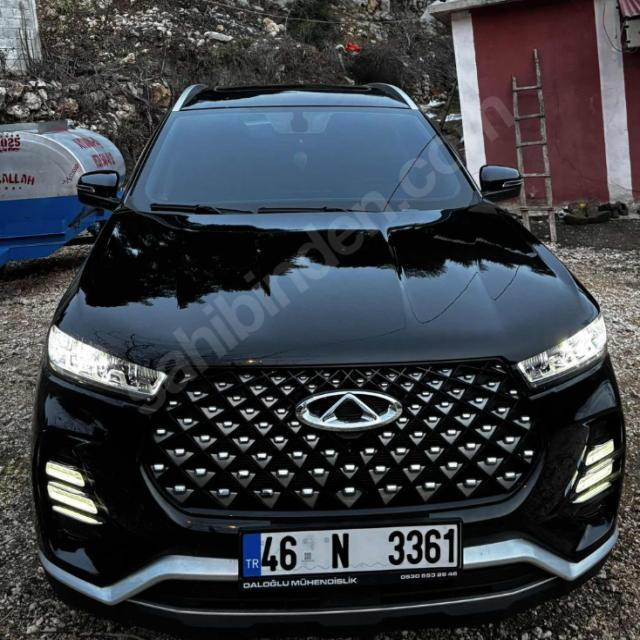cherry: (294, 385, 404, 435)
